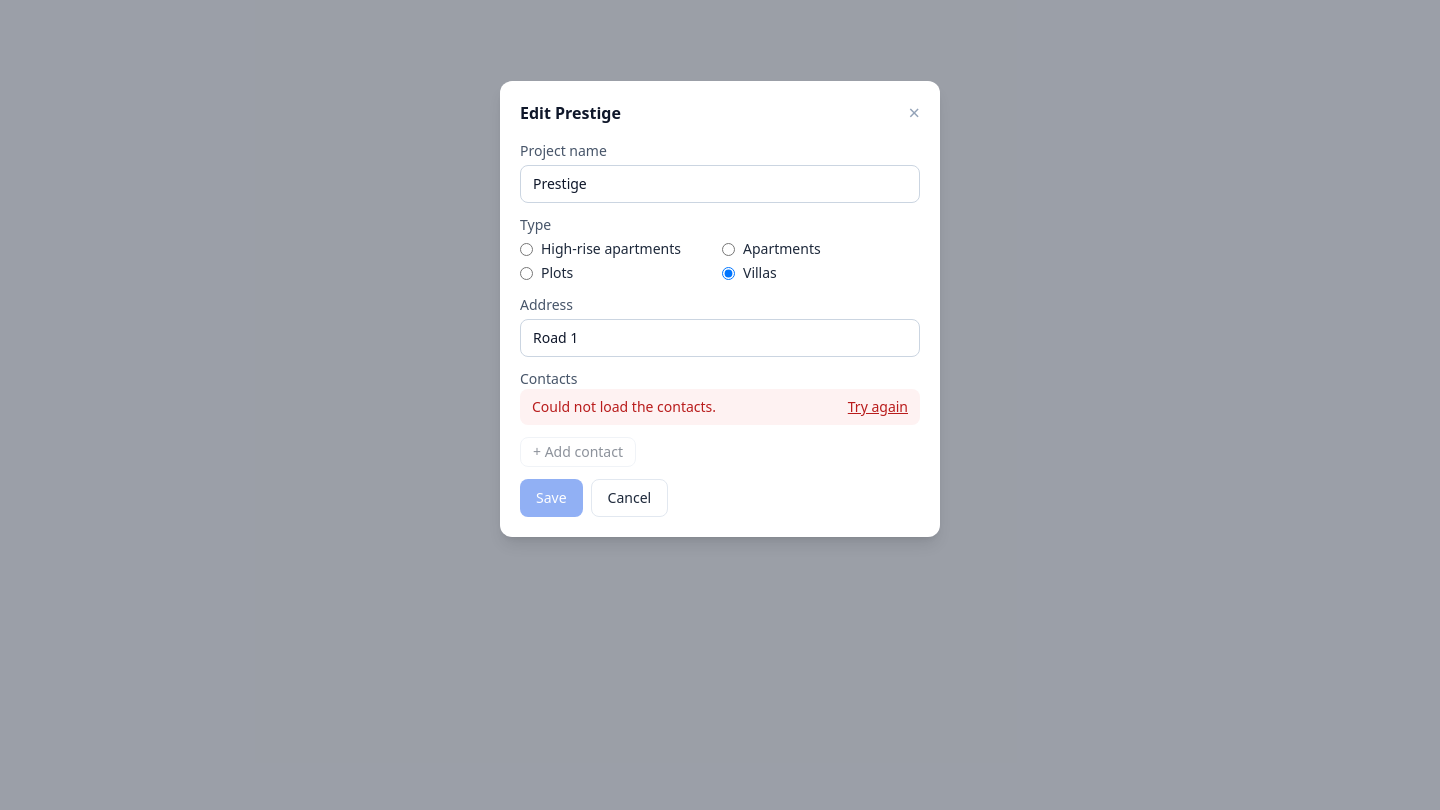
Test case: ProjectForm › cannot save or change contacts until they have loaded, and offers a retry
Expected: the message shows "Could not load the contacts.", [532,397,716,416]
Expected: the button "Save" is disabled, [520,479,583,517]
Click the button "Try again": x=878, y=407 [848,397,908,417]
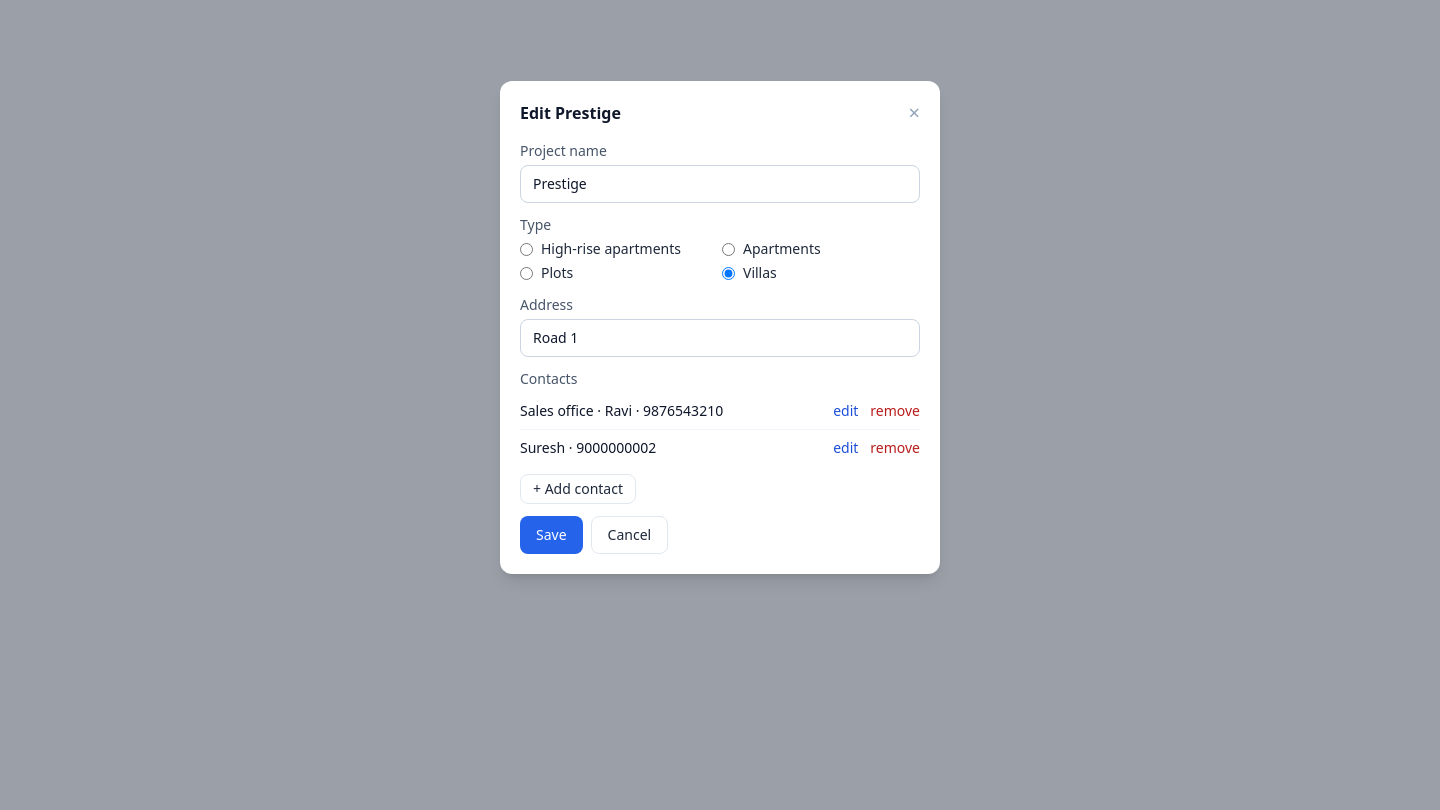
Result: the button with aria-label "Remove Ravi" is shown at [870,401,920,421]
Result: the button "Save" is enabled at [520,516,583,554]
